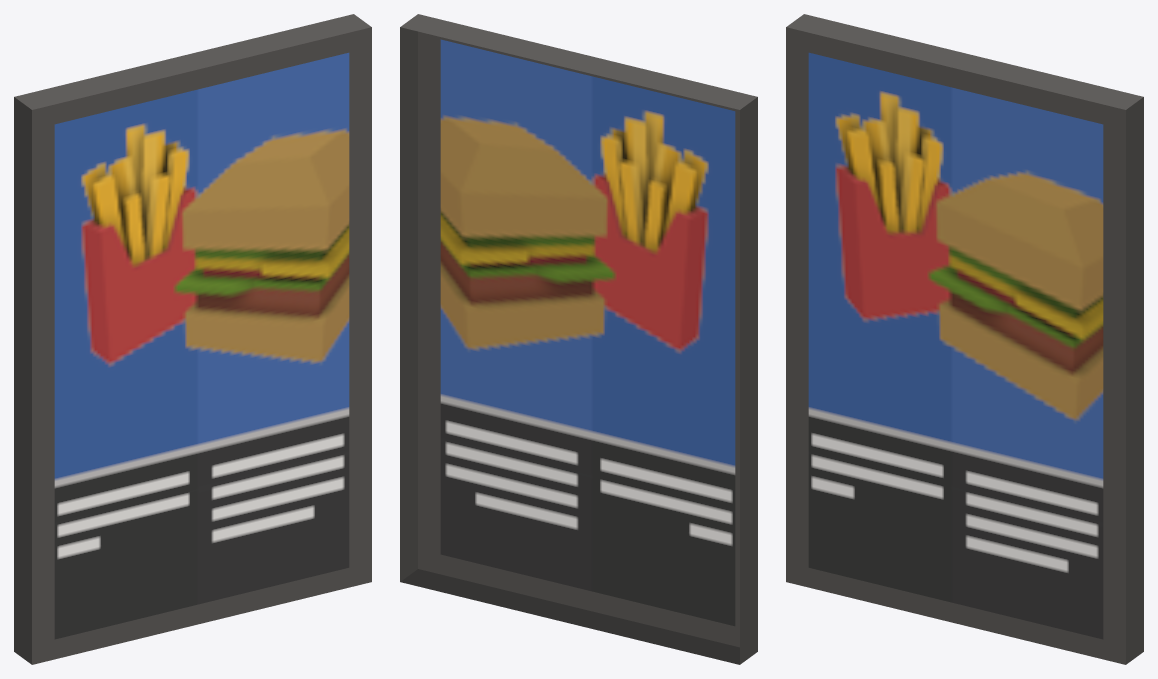
Rendered from SignBurguerAd.glb.
The picture shows the model from 3 angles, left to right: view 1: azimuth 30°, elevation 25°; view 2: azimuth 150°, elevation 25°; view 3: azimuth 330°, elevation 25°; orthographic projection.
Visible parts, largest first — view 1: SI_Prop_Sign_BurgerAd_01; view 2: SI_Prop_Sign_BurgerAd_01; view 3: SI_Prop_Sign_BurgerAd_01.
Part boxes in pixels (left/top/right/bottom): SI_Prop_Sign_BurgerAd_01: left=14, top=14, right=371, bottom=664; SI_Prop_Sign_BurgerAd_01: left=400, top=14, right=757, bottom=664; SI_Prop_Sign_BurgerAd_01: left=786, top=14, right=1143, bottom=664.
Bounding box in the file's own units: 0.0125 × 0.0196 × 0.00115.
1 material, 1 textured.
